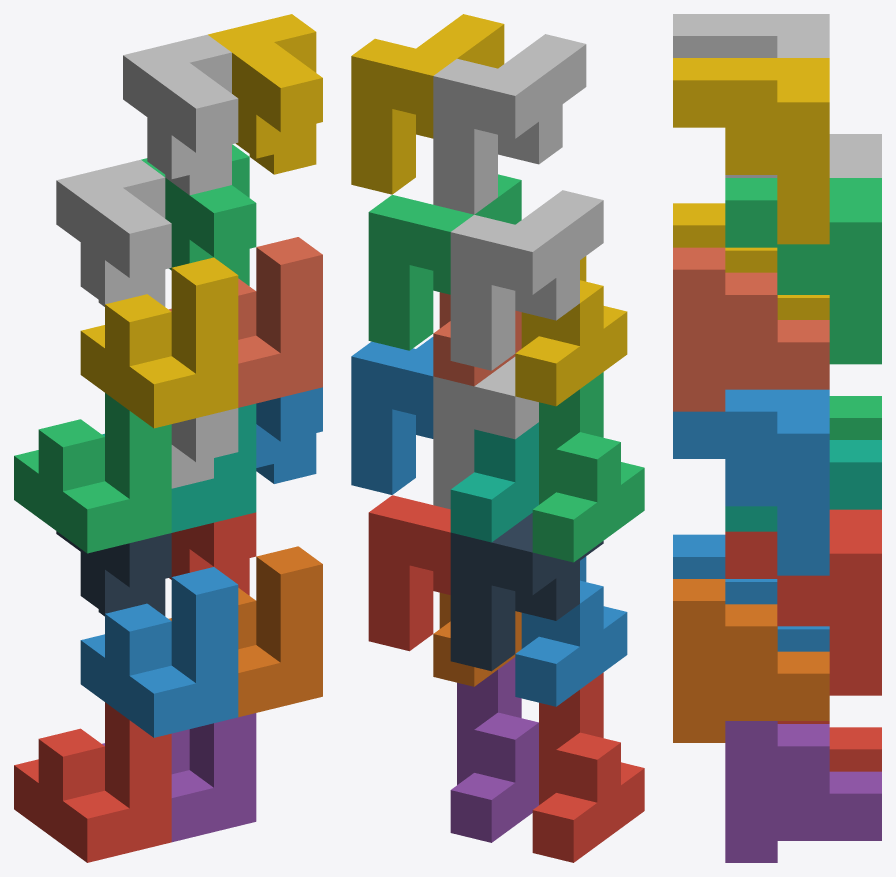
Rendered from tiling.obj.
3 views of the same model, side by side, from view 1: azimuth 30°, elevation 25°; view 2: azimuth 150°, elevation 25°; view 3: azimuth 270°, elevation 25° (orthographic). The views are drawn at different scales.
Visible parts, largest first — view 1: copy_1_domain_2, copy_1_domain_4, copy_1_domain_3, copy_1_domain_1, copy_2_domain_4, copy_2_domain_3, copy_2_domain_8, copy_1_domain_6, copy_1_domain_8, copy_1_domain_5, copy_2_domain_7, copy_2_domain_1 (+4 smaller); view 2: copy_2_domain_3, copy_2_domain_4, copy_2_domain_8, copy_1_domain_1, copy_1_domain_3, copy_2_domain_1, copy_2_domain_7, copy_1_domain_5, copy_2_domain_5, copy_2_domain_6, copy_1_domain_4, copy_1_domain_2 (+4 smaller); view 3: copy_2_domain_8, copy_2_domain_6, copy_1_domain_8, copy_1_domain_6, copy_1_domain_5, copy_2_domain_7, copy_2_domain_5, copy_2_domain_4, copy_1_domain_2, copy_1_domain_7, copy_1_domain_4, copy_1_domain_1 (+2 smaller).
Part boxes in pixels (x1,y1,x2,y2): copy_1_domain_2: (80,567,238,737); copy_1_domain_4: (80,257,238,428); copy_1_domain_3: (14,393,171,553); copy_1_domain_1: (14,702,171,862); copy_2_domain_4: (123,34,238,195); copy_2_domain_3: (56,159,171,306); copy_2_domain_8: (208,14,322,174); copy_1_domain_6: (168,546,322,717); copy_1_domain_8: (168,237,322,407); copy_1_domain_5: (102,713,256,842); copy_2_domain_7: (141,144,256,285); copy_2_domain_1: (56,531,171,616); copy_2_domain_3: (450,190,603,370); copy_2_domain_4: (433,34,586,214); copy_2_domain_8: (351,14,504,194); copy_1_domain_1: (532,672,644,862); copy_1_domain_3: (532,372,644,562); copy_2_domain_1: (450,513,603,671); copy_2_domain_7: (368,174,521,350); copy_1_domain_5: (450,657,538,842); copy_2_domain_5: (368,495,450,651); copy_2_domain_6: (351,337,433,494); copy_1_domain_4: (515,256,627,406); copy_1_domain_2: (515,556,627,706); copy_2_domain_8: (673,58,829,244); copy_2_domain_6: (673,389,829,575); copy_1_domain_8: (673,247,829,411); copy_1_domain_6: (673,579,829,742); copy_1_domain_5: (725,721,881,862); copy_2_domain_7: (725,178,881,364); copy_2_domain_5: (725,509,881,695); copy_2_domain_4: (673,14,829,57); copy_1_domain_2: (673,534,829,651); copy_1_domain_7: (725,440,881,531); copy_1_domain_4: (673,203,829,319); copy_1_domain_1: (777,721,881,771).
Size of the model in its own units: 6 by 17 by 4.
